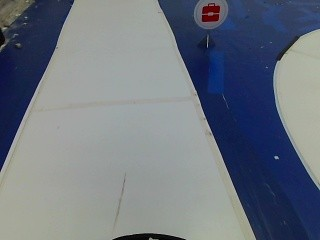company: (193, 1, 229, 28)
